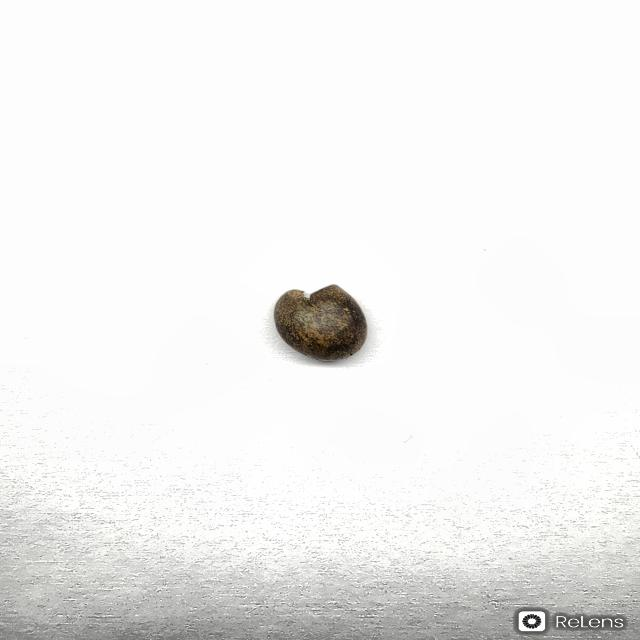Black: (272, 283, 368, 363)
